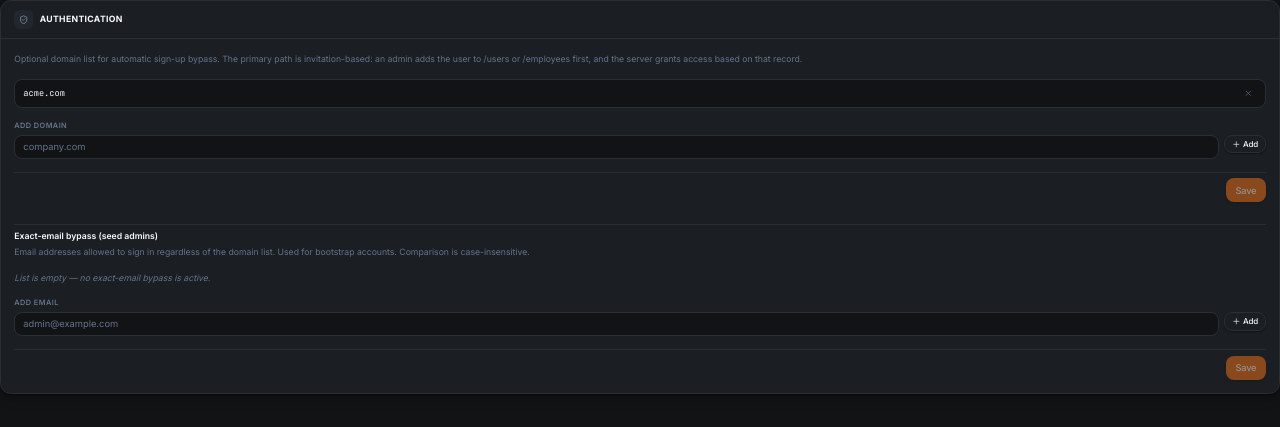
Test: AuthSettingsPanel › shows validation error for an invalid domain and does not add it
The width and height of the screenshot is (1280, 427).
Expected: the text "acme.com" is shown, [23, 87, 65, 100]
Type "nope" into the field with id "auth-add-domain". click: (617, 147)
box: [14, 135, 1219, 159]
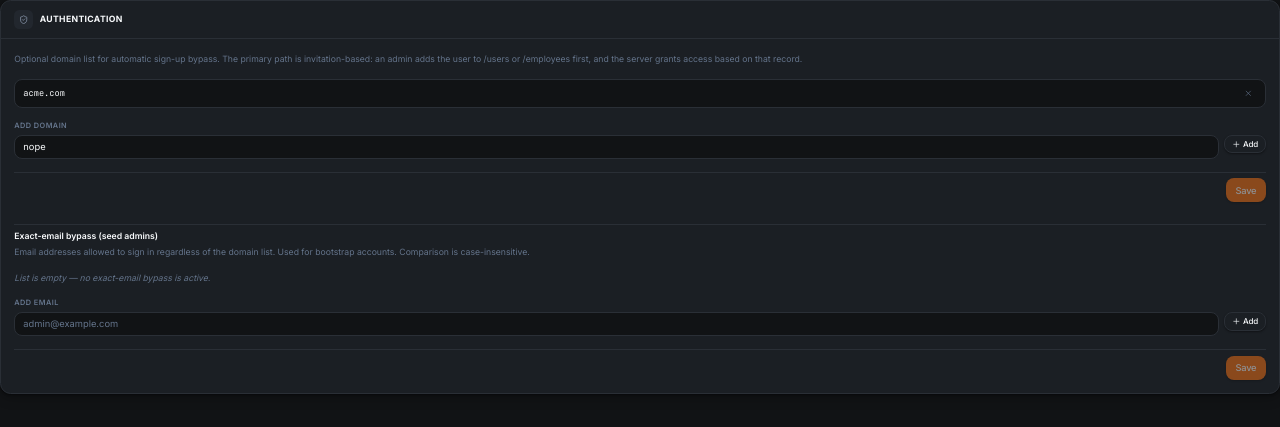
Click the 1st button "Add". click: (1245, 144)
box: [1224, 135, 1266, 153]
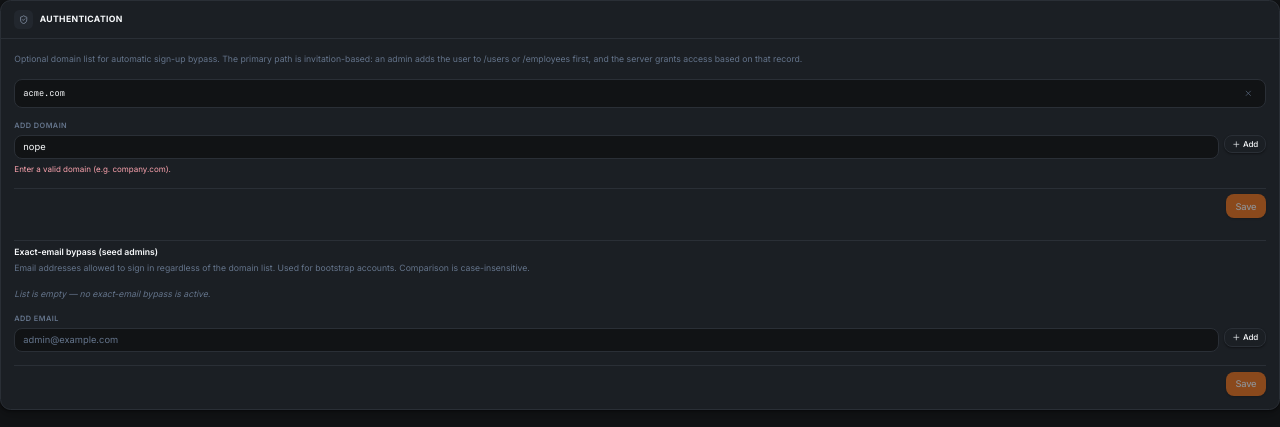
Expected: the message "Enter a valid domain (e.g. company.com)." is shown, [14, 164, 171, 174]
